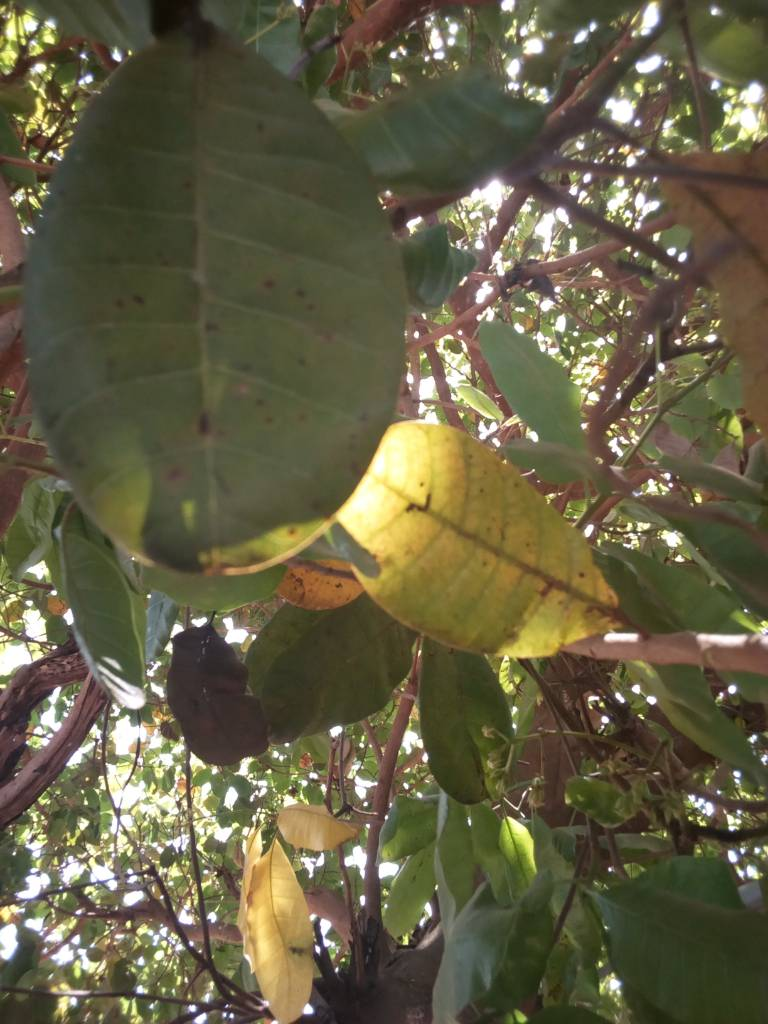Anthracnose: (33, 52, 413, 578), (347, 422, 627, 655)
